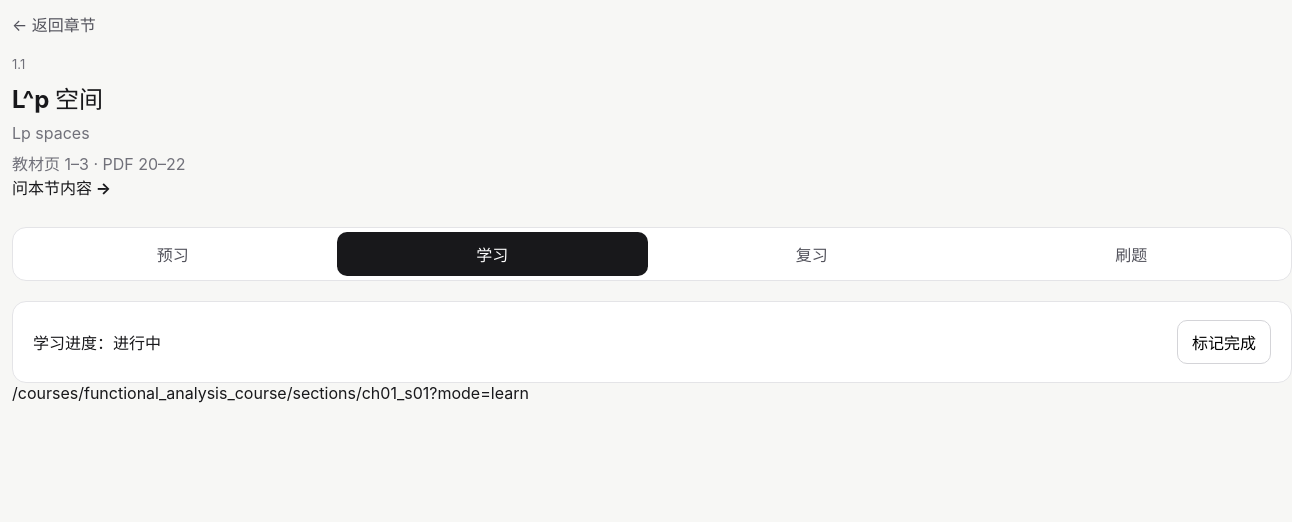
it: SectionPage › defaults to learn with replace-style URL normalization and keeps four modes free
Expected: the text with test id "location" reads "/courses/functional_analysis_course/sections/ch01_s01?mode=learn", [12,383,529,403]
Expected: the tab "预习" is enabled, [17,232,328,276]
Step 1. Click the tab "复习" → (812, 254), box [656,232,968,276]
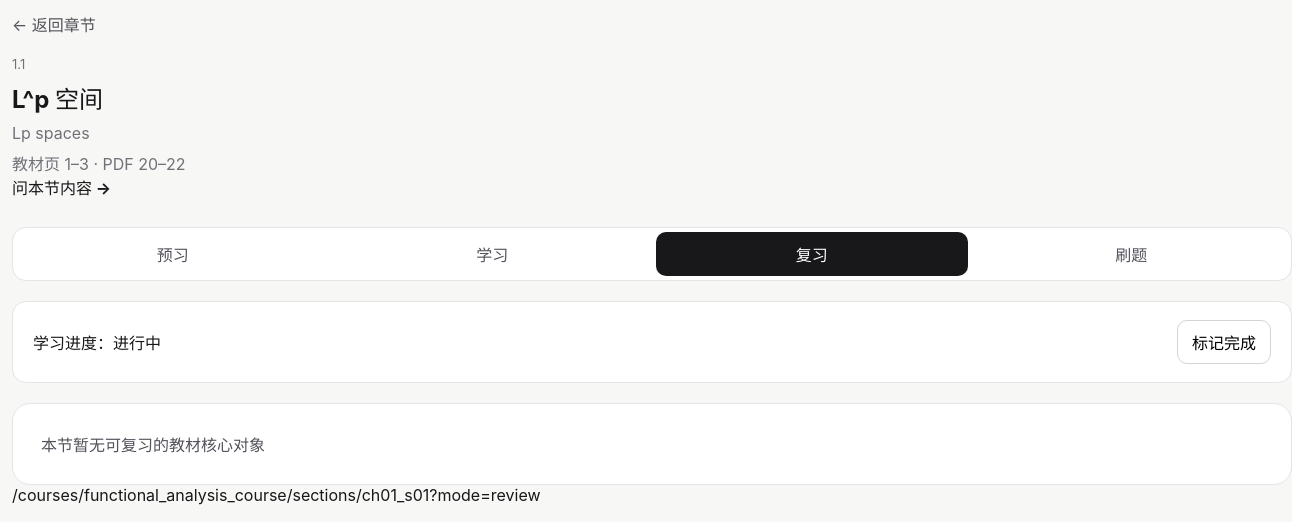
Expected: the text with test id "location" shows "?mode=review", [429,485,541,505]
